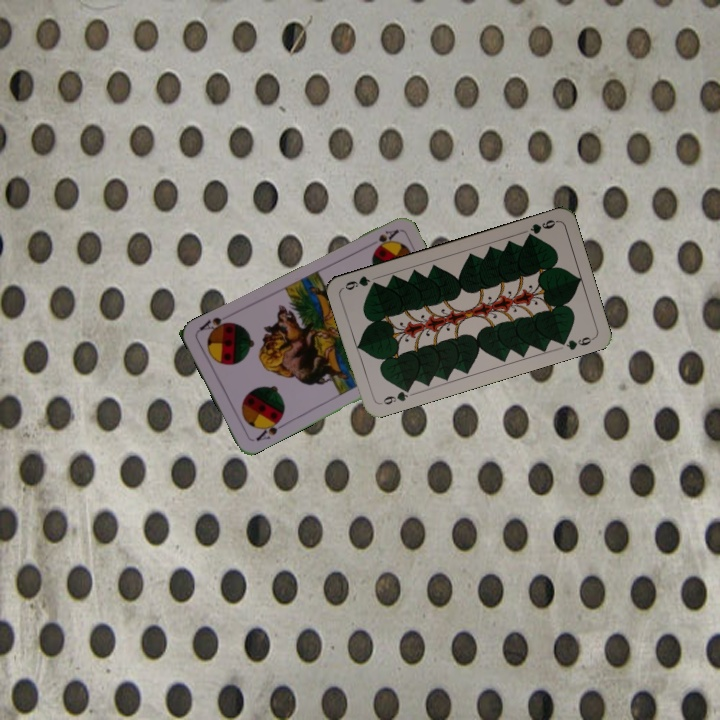G9: (522, 215, 560, 241), (376, 383, 416, 407)
SA: (252, 414, 288, 444), (371, 225, 401, 252)
